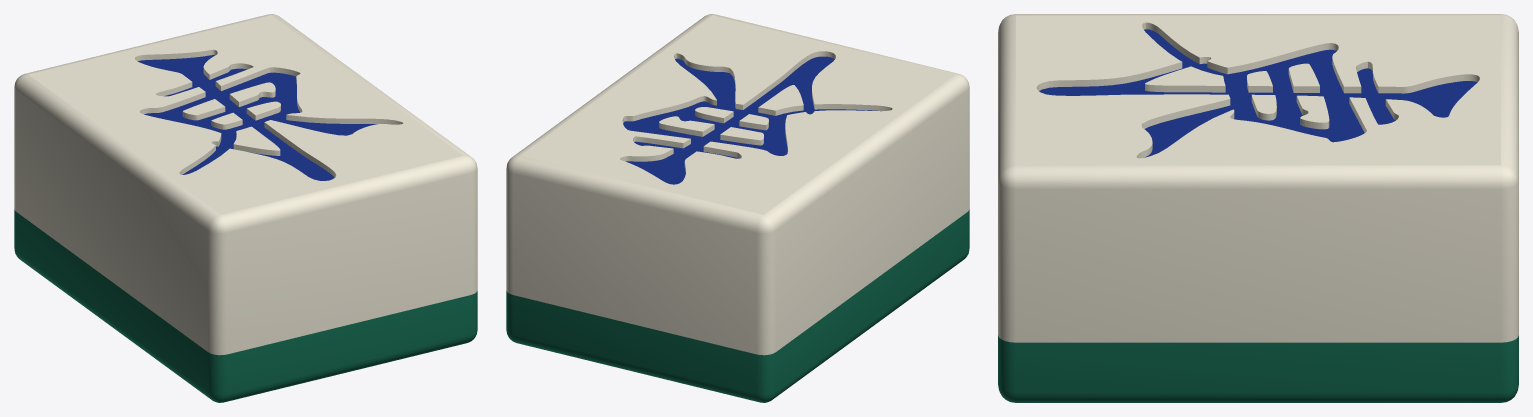
File: Ton.glb
The picture shows the model from 3 angles, left to right: view 1: azimuth 30°, elevation 25°; view 2: azimuth 150°, elevation 25°; view 3: azimuth 270°, elevation 25°; orthographic projection. The views are drawn at different scales.
Visible parts, largest first — view 1: Ton_body, Ton_inset; view 2: Ton_body, Ton_inset; view 3: Ton_body, Ton_inset.
Boxes of the visible parts, <box> form: Ton_body: <box>14,14,477,402</box>; Ton_inset: <box>138,55,377,180</box>; Ton_body: <box>506,14,969,402</box>; Ton_inset: <box>623,56,880,184</box>; Ton_body: <box>998,14,1518,402</box>; Ton_inset: <box>1039,29,1477,157</box>.
Size of the model in its own units: 0.024 by 0.016 by 0.032.
